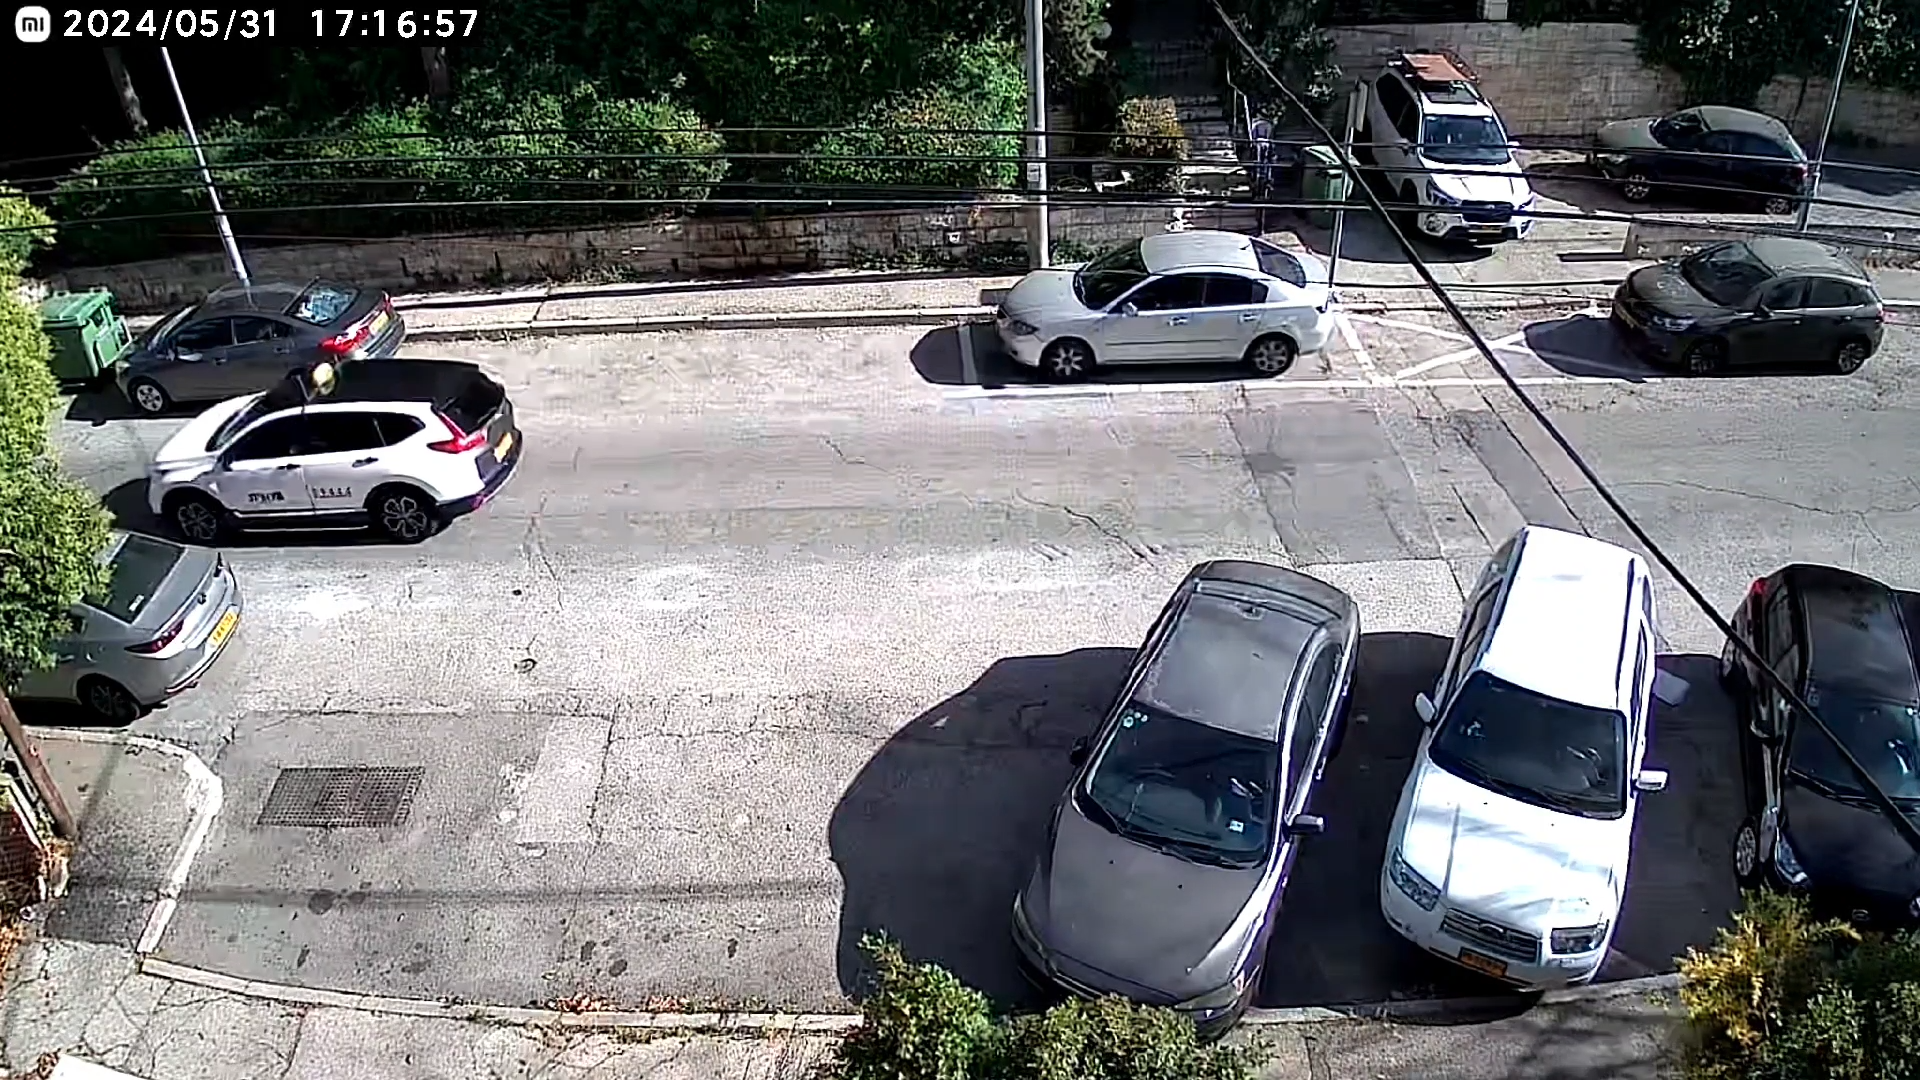moving car: (1038, 709, 1604, 945)
